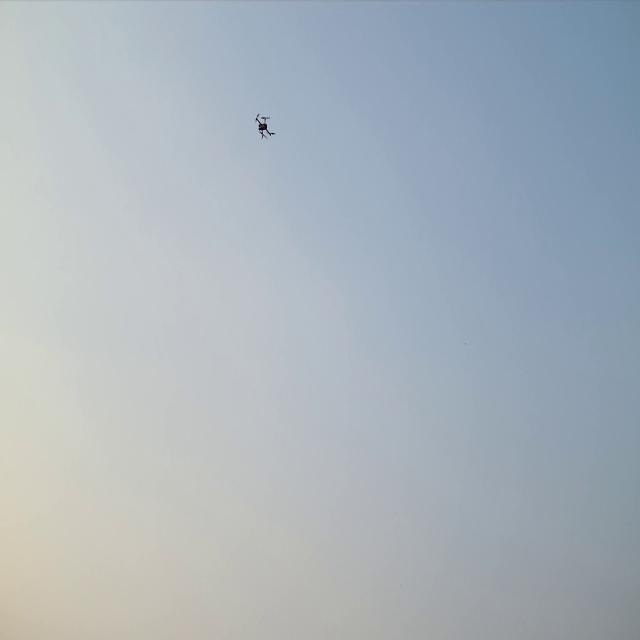UAV: (254, 110, 277, 142)
